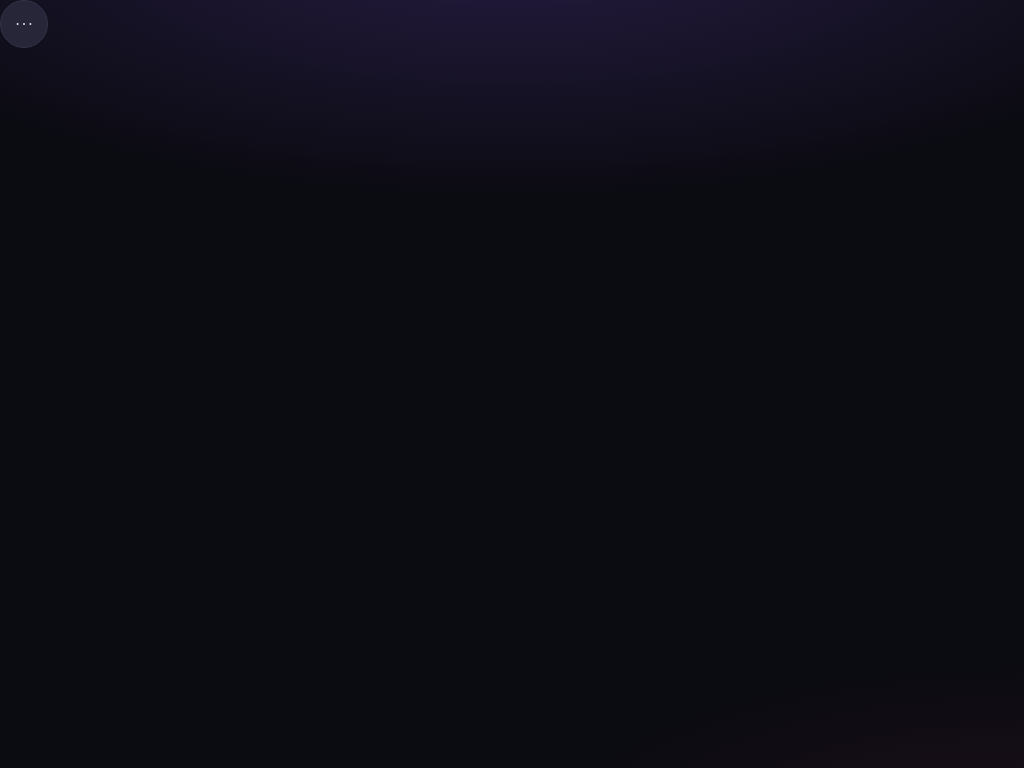
Scenario: RoomMenu › lets any player leave after confirming
What coordinates should you click on to do the following:
click the button named "Opções da sala"
I would click on:
 (24, 24)
Its box is [0, 0, 48, 48].
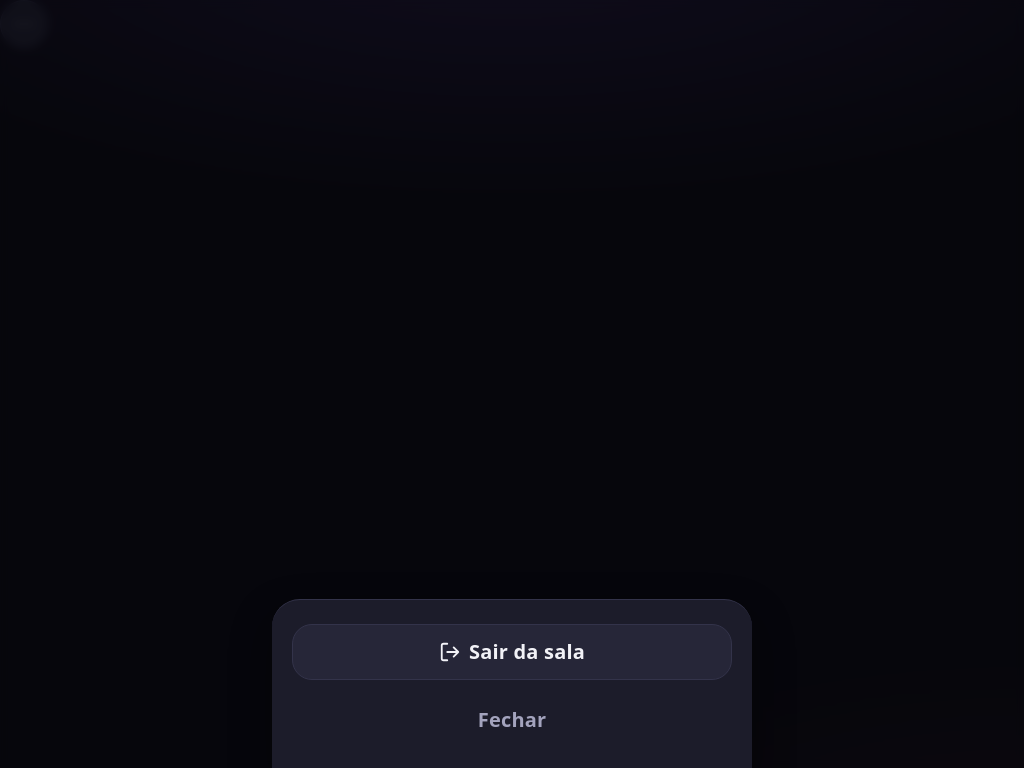
What coordinates should you click on to do the following:
click the button "Sair da sala"
I would click on:
 (512, 652)
Its box is [292, 624, 732, 680].
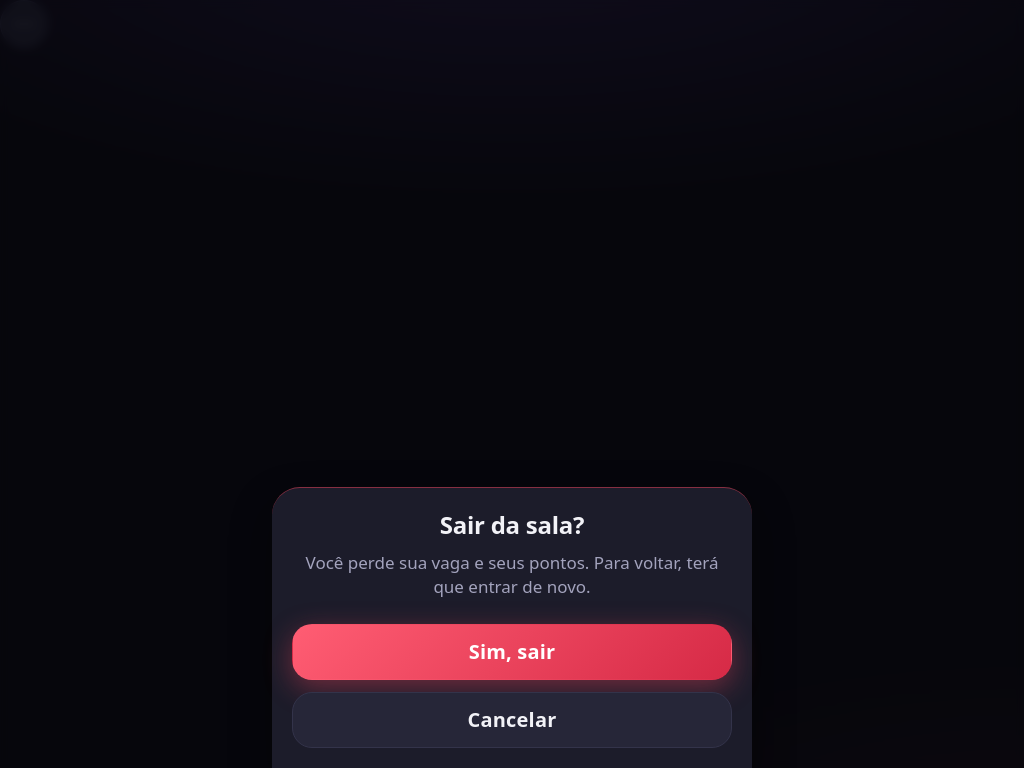
What coordinates should you click on to do the following:
click the button "Sim, sair"
I would click on:
 (512, 652)
Its box is [292, 624, 732, 680].
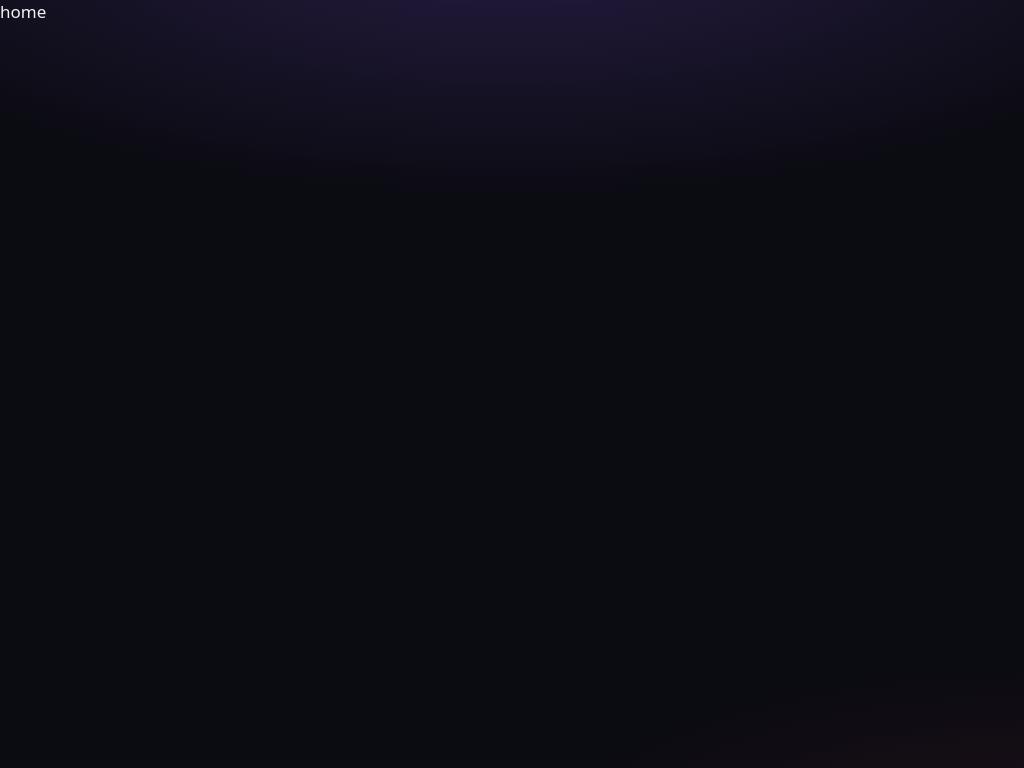
Check: the text "home" is shown, box [0, 0, 46, 23]
